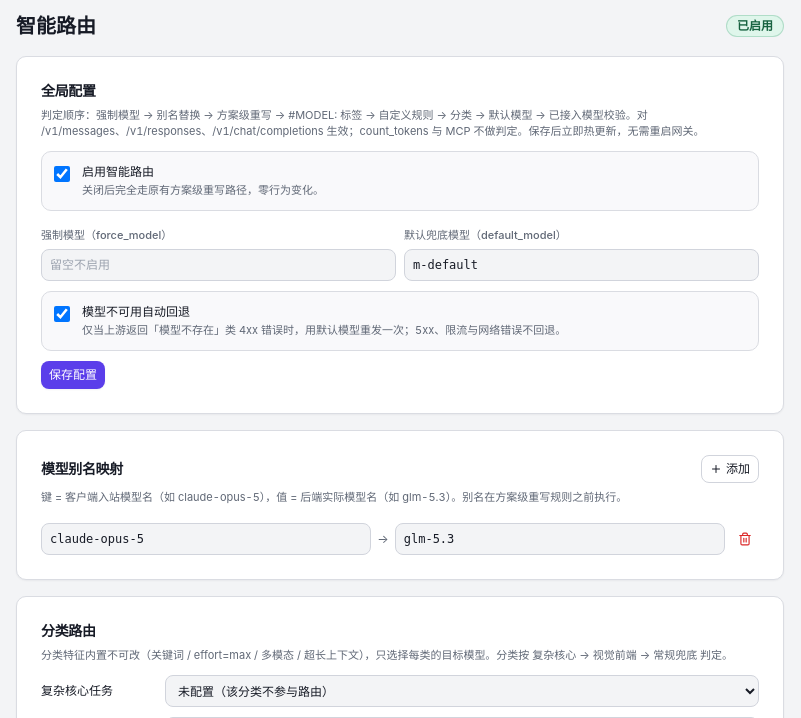
Test: SmartRoutePage › saves the config through the update command and shows saved status
Click the button with test id "route-save-button". click: (73, 375)
box: [41,361,105,389]
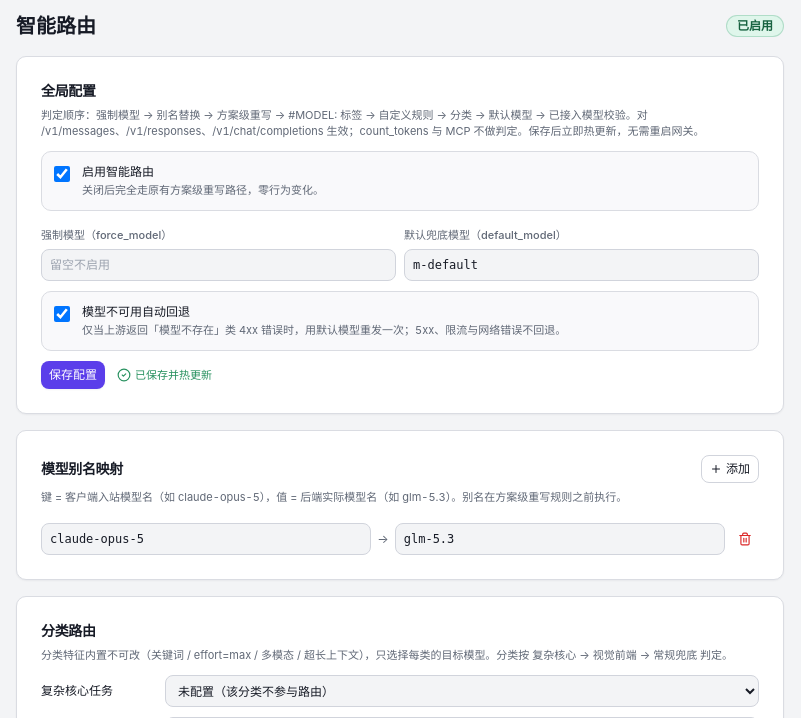
Result: the element with test id "route-save-status" shows "已保存" at [117,367,212,383]
